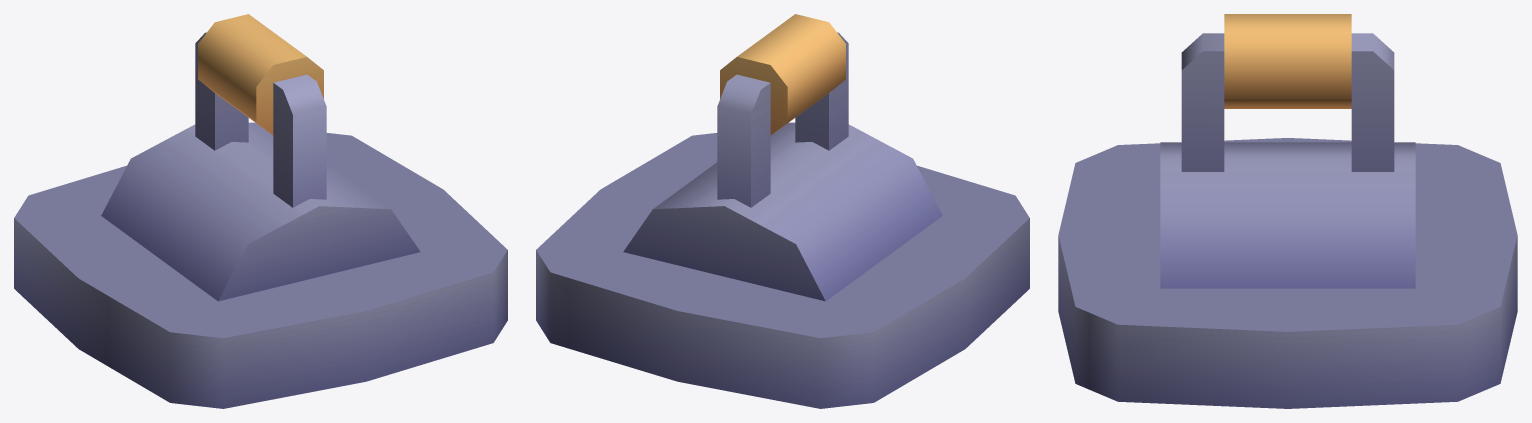
Rendered from kenney-factory-lever-double.glb.
3 renders of one model, left to right at view 1: azimuth 30°, elevation 25°; view 2: azimuth 150°, elevation 25°; view 3: azimuth 270°, elevation 25°, orthographic. The views are drawn at different scales.
Parts seen in each view (by area): view 1: lever-double, handle; view 2: lever-double, handle; view 3: lever-double, handle.
Boxes of the visible parts, x1,y1,x2,y2 form: lever-double: (14, 122, 507, 408); handle: (195, 14, 326, 207); lever-double: (536, 122, 1029, 408); handle: (717, 14, 848, 207); lever-double: (1058, 138, 1517, 408); handle: (1181, 14, 1394, 171).
Bounding box in the file's own units: 0.54 × 0.375 × 0.54.
1 material, 1 textured.
